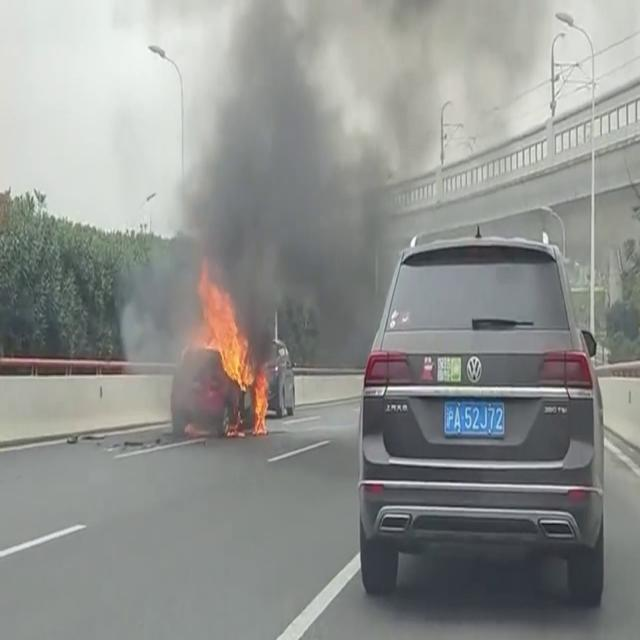accident: (169, 338, 267, 434)
